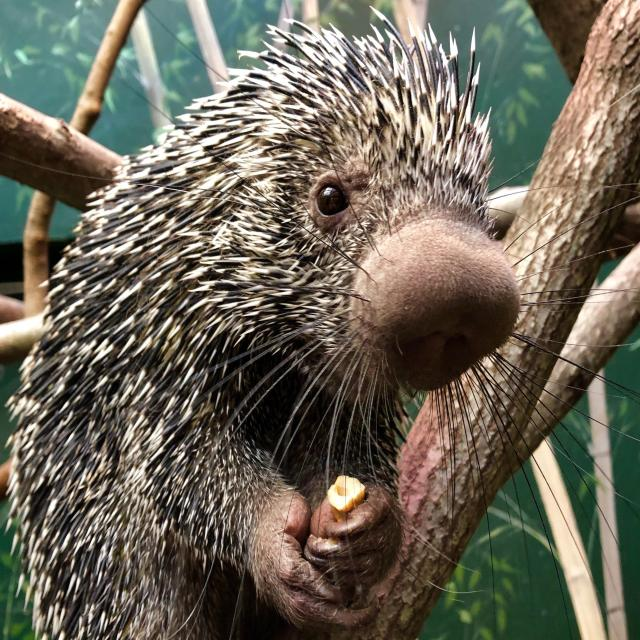Porcupine: (38, 23, 529, 614)
